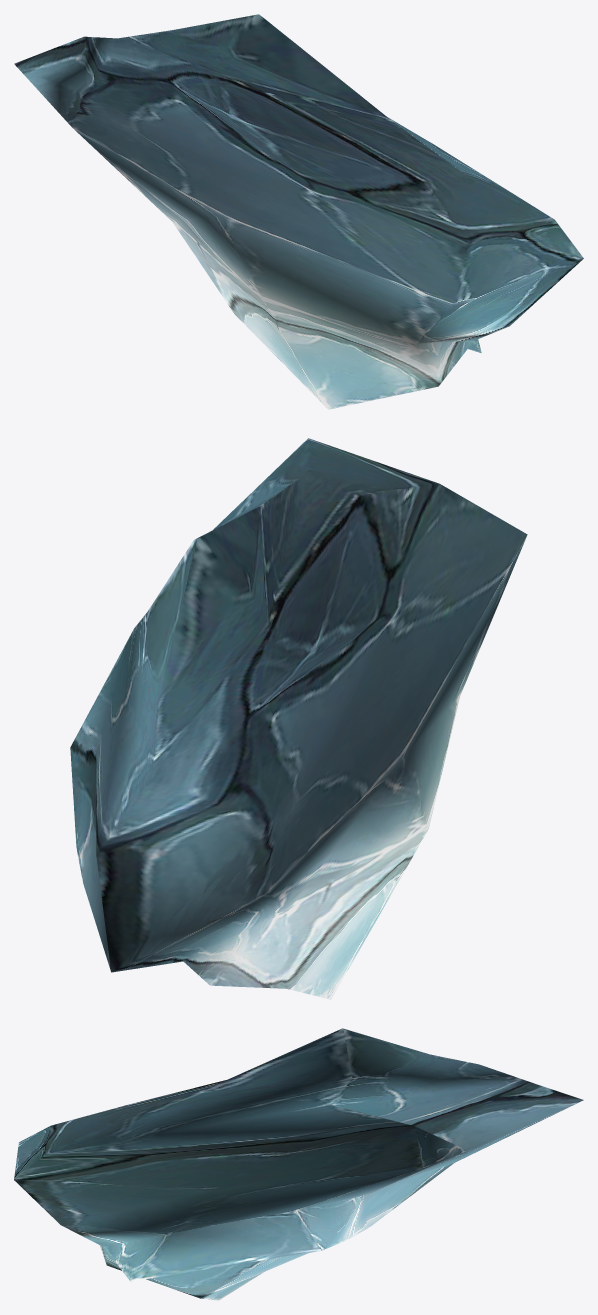
File: IceShard (1).fbx
3 renders of one model, top to bottom at view 1: azimuth 30°, elevation 25°; view 2: azimuth 150°, elevation 25°; view 3: azimuth 270°, elevation 25°, orthographic. The views are drawn at different scales.
Parts seen in each view (by area): view 1: ice; view 2: ice; view 3: ice.
Part boxes in pixels (bbox=[...]): ice: bbox=[14, 14, 583, 409]; ice: bbox=[70, 438, 527, 999]; ice: bbox=[14, 1028, 583, 1300].
Size of the model in its own units: 1.95 by 2.64 by 4.97.
